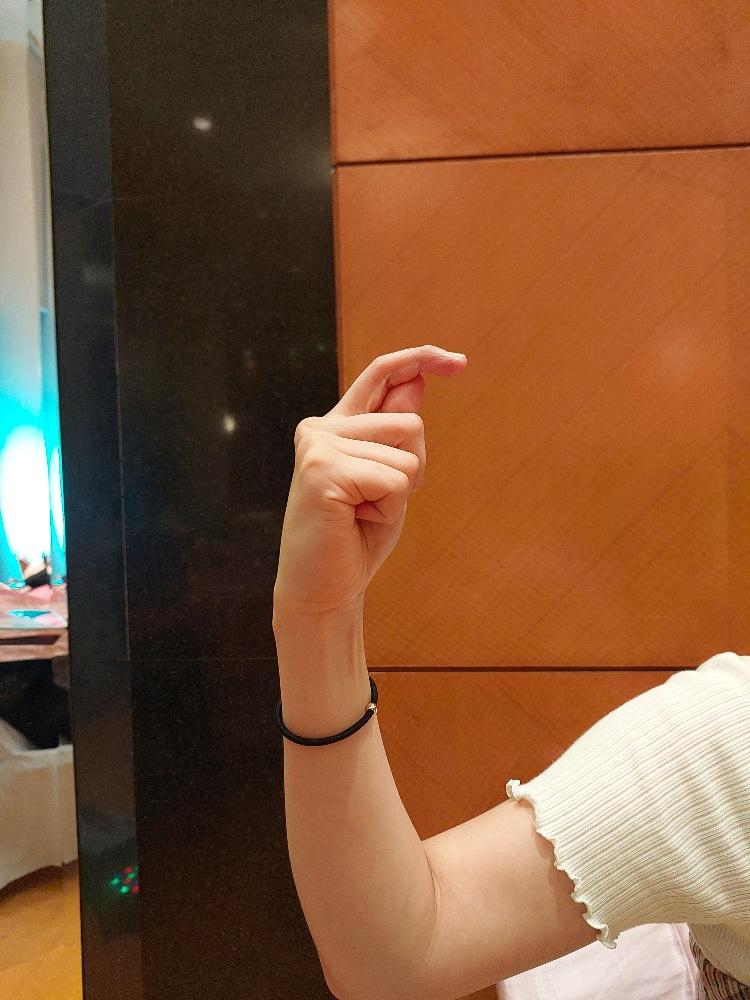t: (270, 338, 470, 611)
